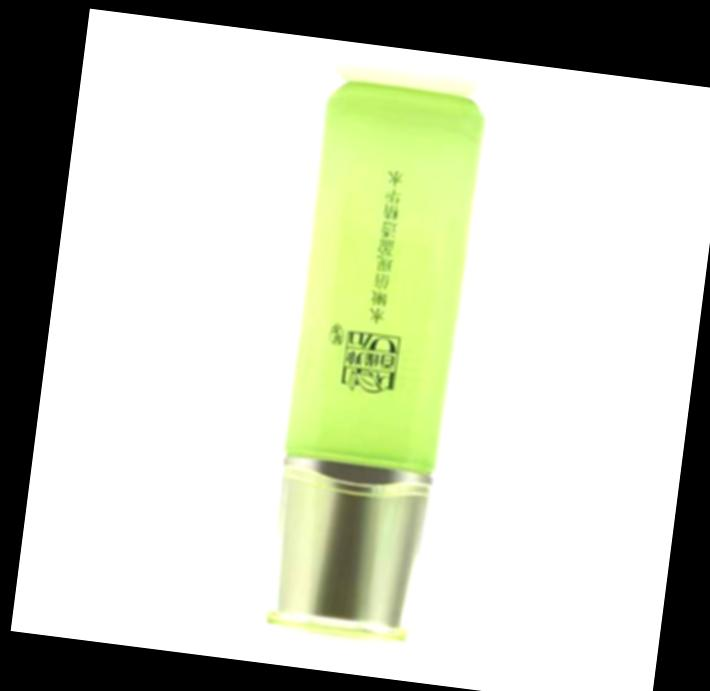cosmetic: (256, 91, 480, 648)
